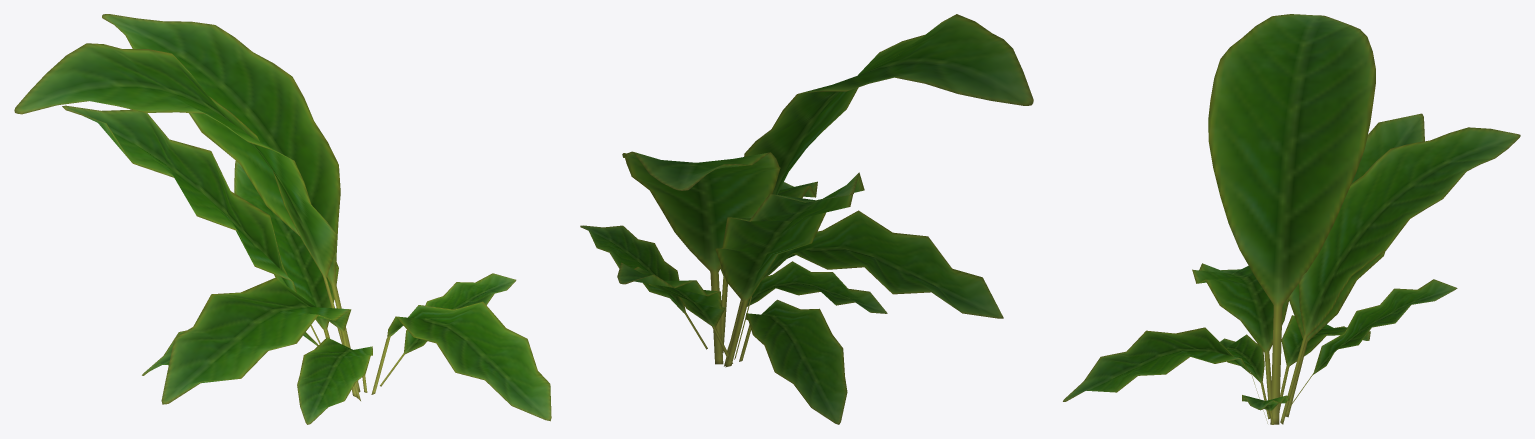
File: plante-1.glb
3 views of the same model, side by side, from view 1: azimuth 30°, elevation 25°; view 2: azimuth 150°, elevation 25°; view 3: azimuth 270°, elevation 25° (orthographic). The views are drawn at different scales.
Parts seen in each view (by area): view 1: Object_5.517; view 2: Object_5.517; view 3: Object_5.517.
Part boxes in pixels (x1,y1,x2,y2): Object_5.517: (14, 14, 551, 424); Object_5.517: (580, 14, 1033, 424); Object_5.517: (1063, 14, 1520, 424).
Bounding box in the file's own units: 0.7677 × 0.5793 × 0.7976.
1 material, 1 textured.
